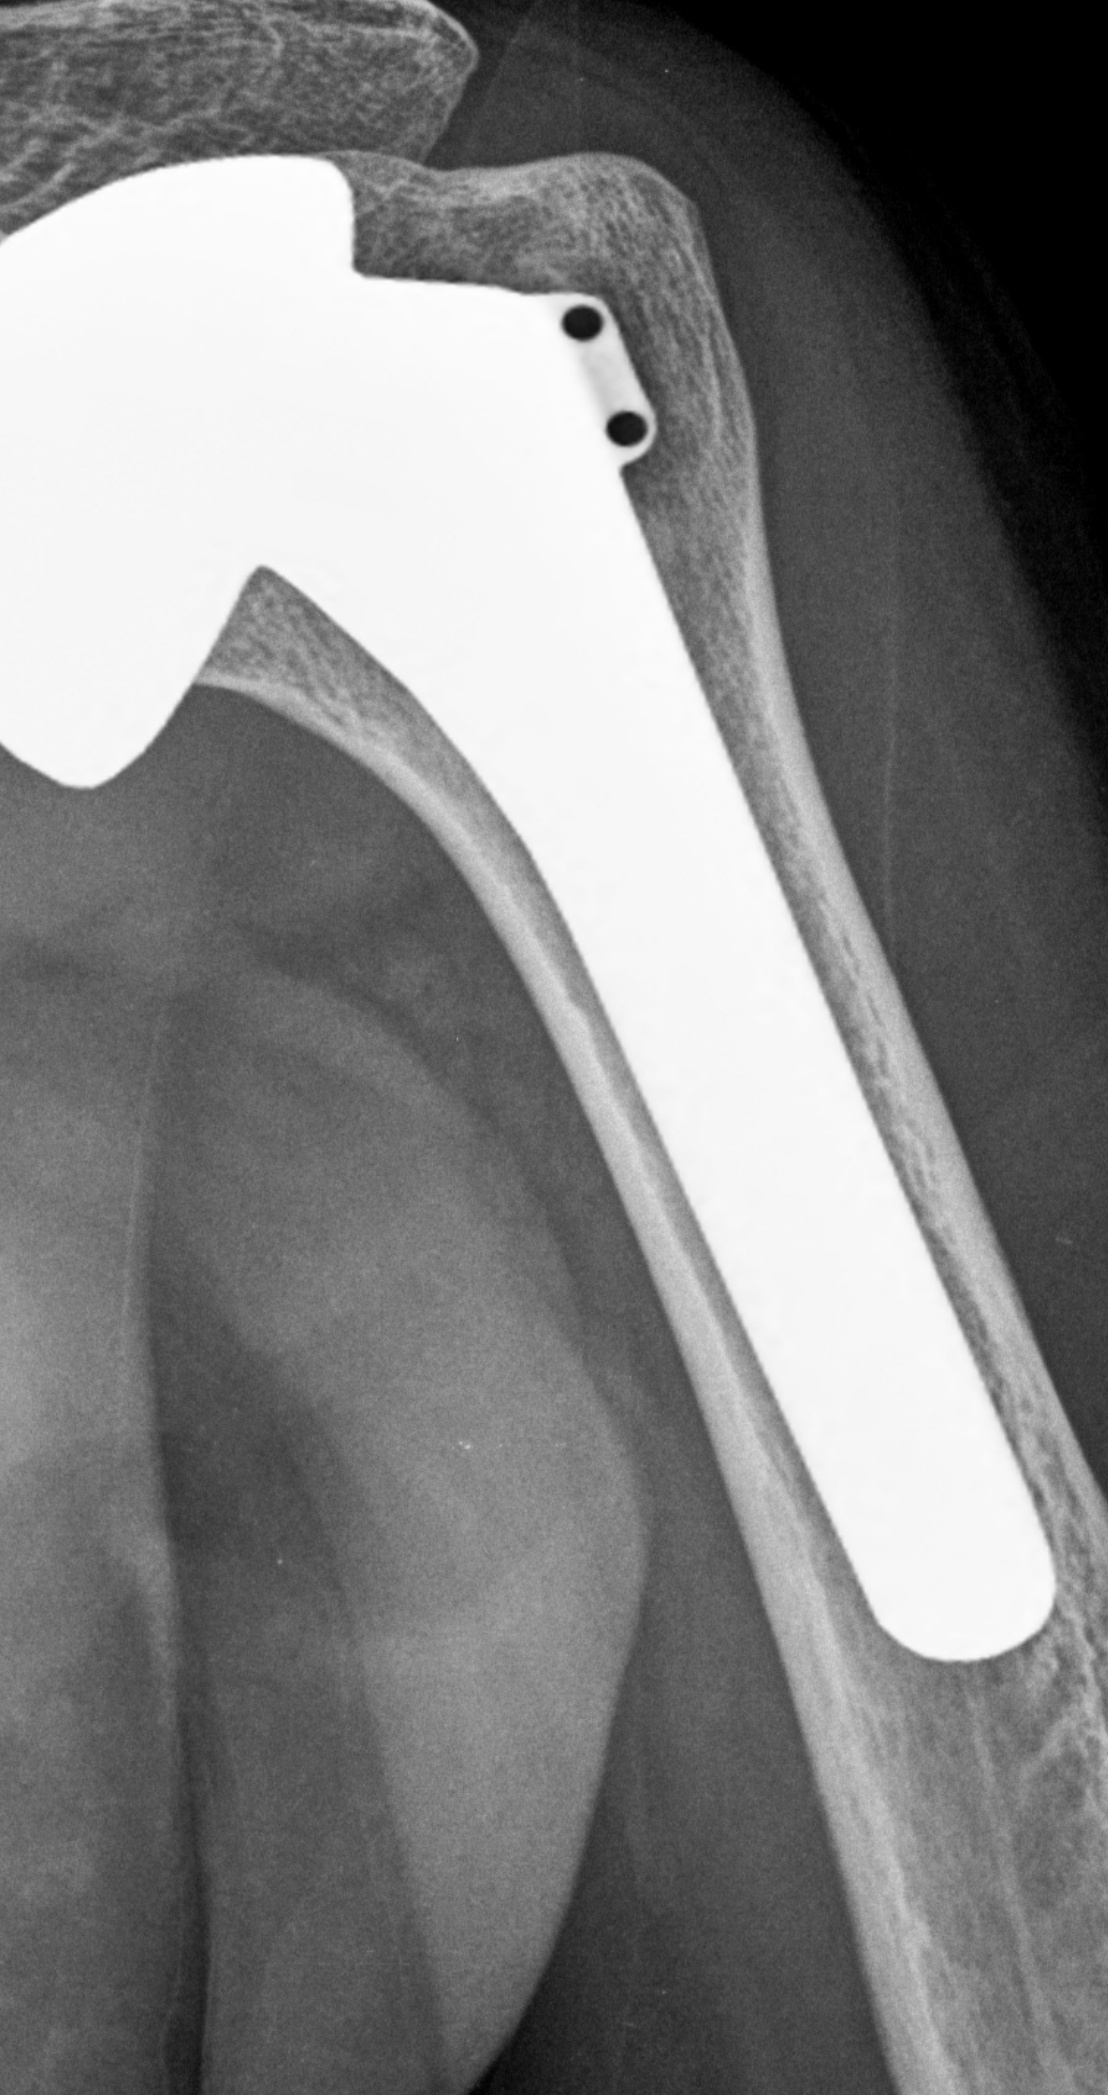Shoulder - AequalisPressfit - Tornier: (3, 144, 674, 801)
